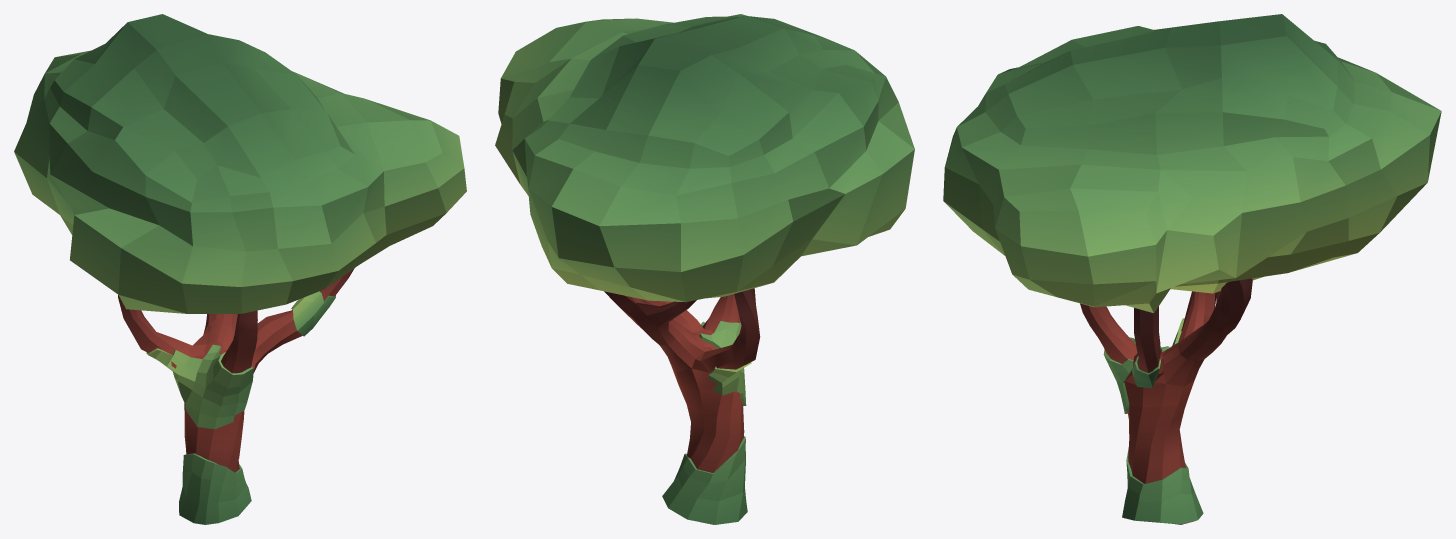
Rendered from Level2_BigTree_Green.fbx.
The picture shows the model from 3 angles, left to right: view 1: azimuth 30°, elevation 25°; view 2: azimuth 150°, elevation 25°; view 3: azimuth 270°, elevation 25°; orthographic projection. The views are drawn at different scales.
Visible parts, largest first — view 1: Treetop_LowPoly, Moss_LowPoly, Tree1; view 2: Treetop_LowPoly, Tree1, Moss_LowPoly; view 3: Treetop_LowPoly, Tree1, Moss_LowPoly.
Boxes of the visible parts, box(x1,y1,x2,y2) form: Treetop_LowPoly: box(14, 14, 466, 313); Moss_LowPoly: box(146, 291, 335, 524); Tree1: box(118, 268, 354, 472); Treetop_LowPoly: box(495, 14, 914, 302); Tree1: box(604, 288, 760, 524); Moss_LowPoly: box(662, 321, 751, 524); Treetop_LowPoly: box(943, 14, 1441, 313); Tree1: box(1080, 278, 1252, 524); Moss_LowPoly: box(1103, 318, 1203, 524).
Size of the model in its own units: 17.55 by 19.4 by 21.09.
